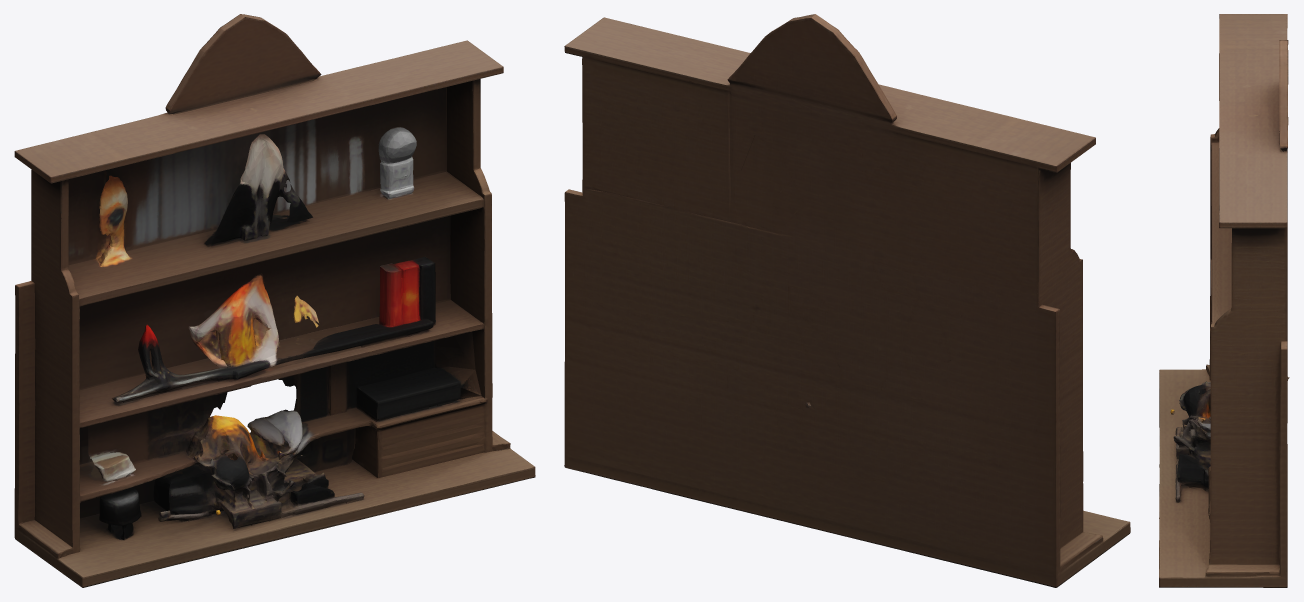
The model's file is Fireplace.glb.
3 renders of one model, left to right at view 1: azimuth 30°, elevation 25°; view 2: azimuth 150°, elevation 25°; view 3: azimuth 270°, elevation 25°, orthographic. The views are drawn at different scales.
Visible parts, largest first — view 1: world; view 2: world; view 3: world.
Boxes of the visible parts, x1,y1,x2,y2 form: world: (14,14,535,587); world: (564,14,1130,587); world: (1159,14,1289,587).
Bounding box in the file's own units: 1 × 0.9923 × 0.2652.
1 material, 1 textured.
